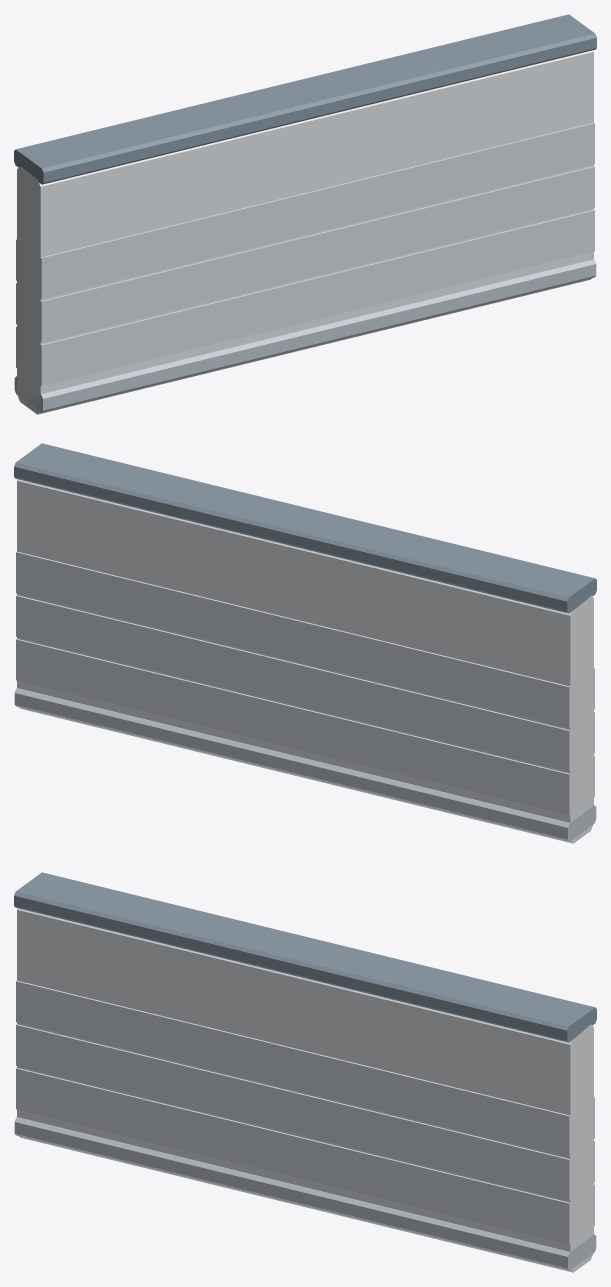
Rendered from wall_school_math.glb.
3 renders of one model, top to bottom at view 1: azimuth 30°, elevation 25°; view 2: azimuth 150°, elevation 25°; view 3: azimuth 330°, elevation 25°, orthographic.
Parts seen in each view (by area): view 1: Part_001, Part_002, Part_005, Part_007, Part_009, Part_003; view 2: Part_001, Part_002, Part_004, Part_006, Part_008, Part_003; view 3: Part_001, Part_002, Part_005, Part_007, Part_009, Part_003.
Boxes of the visible parts, x1,y1,x2,y2 form: Part_001: (17, 50, 593, 414); Part_002: (14, 14, 596, 184); Part_005: (40, 210, 594, 386); Part_007: (40, 166, 594, 342); Part_009: (40, 122, 594, 298); Part_003: (14, 259, 596, 412); Part_001: (17, 479, 593, 843); Part_002: (14, 443, 596, 613); Part_004: (16, 639, 570, 815); Part_006: (16, 595, 570, 771); Part_008: (16, 551, 570, 727); Part_003: (14, 688, 596, 841); Part_001: (17, 908, 593, 1272); Part_002: (14, 872, 596, 1042); Part_005: (16, 1068, 570, 1244); Part_007: (16, 1024, 570, 1200); Part_009: (16, 980, 570, 1156); Part_003: (14, 1117, 596, 1270).
Bounding box in the file's own units: 2.7 × 1.16 × 0.25.
